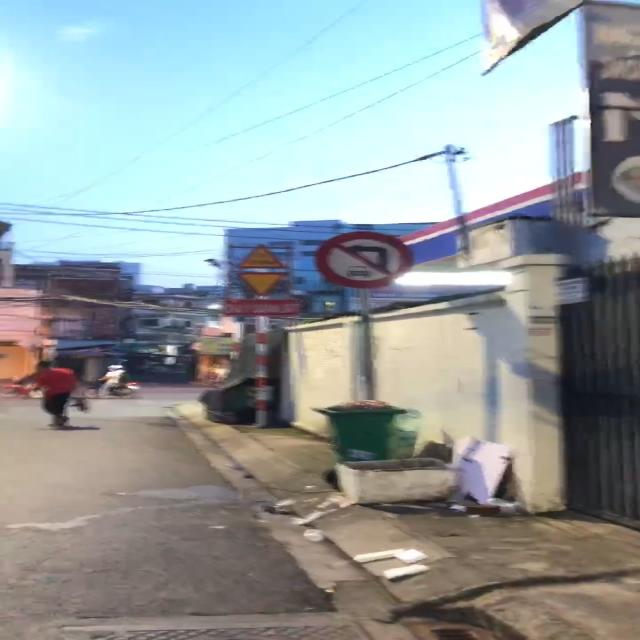Bien bao cam xe o to re trai: (308, 228, 419, 295)
Bien bao giao nhau voi duong uu tien: (233, 270, 295, 298)
